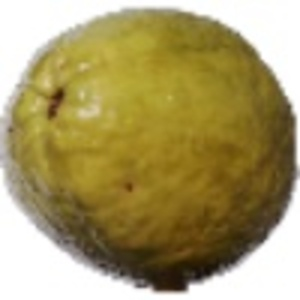goiaba: (3, 9, 297, 285)
